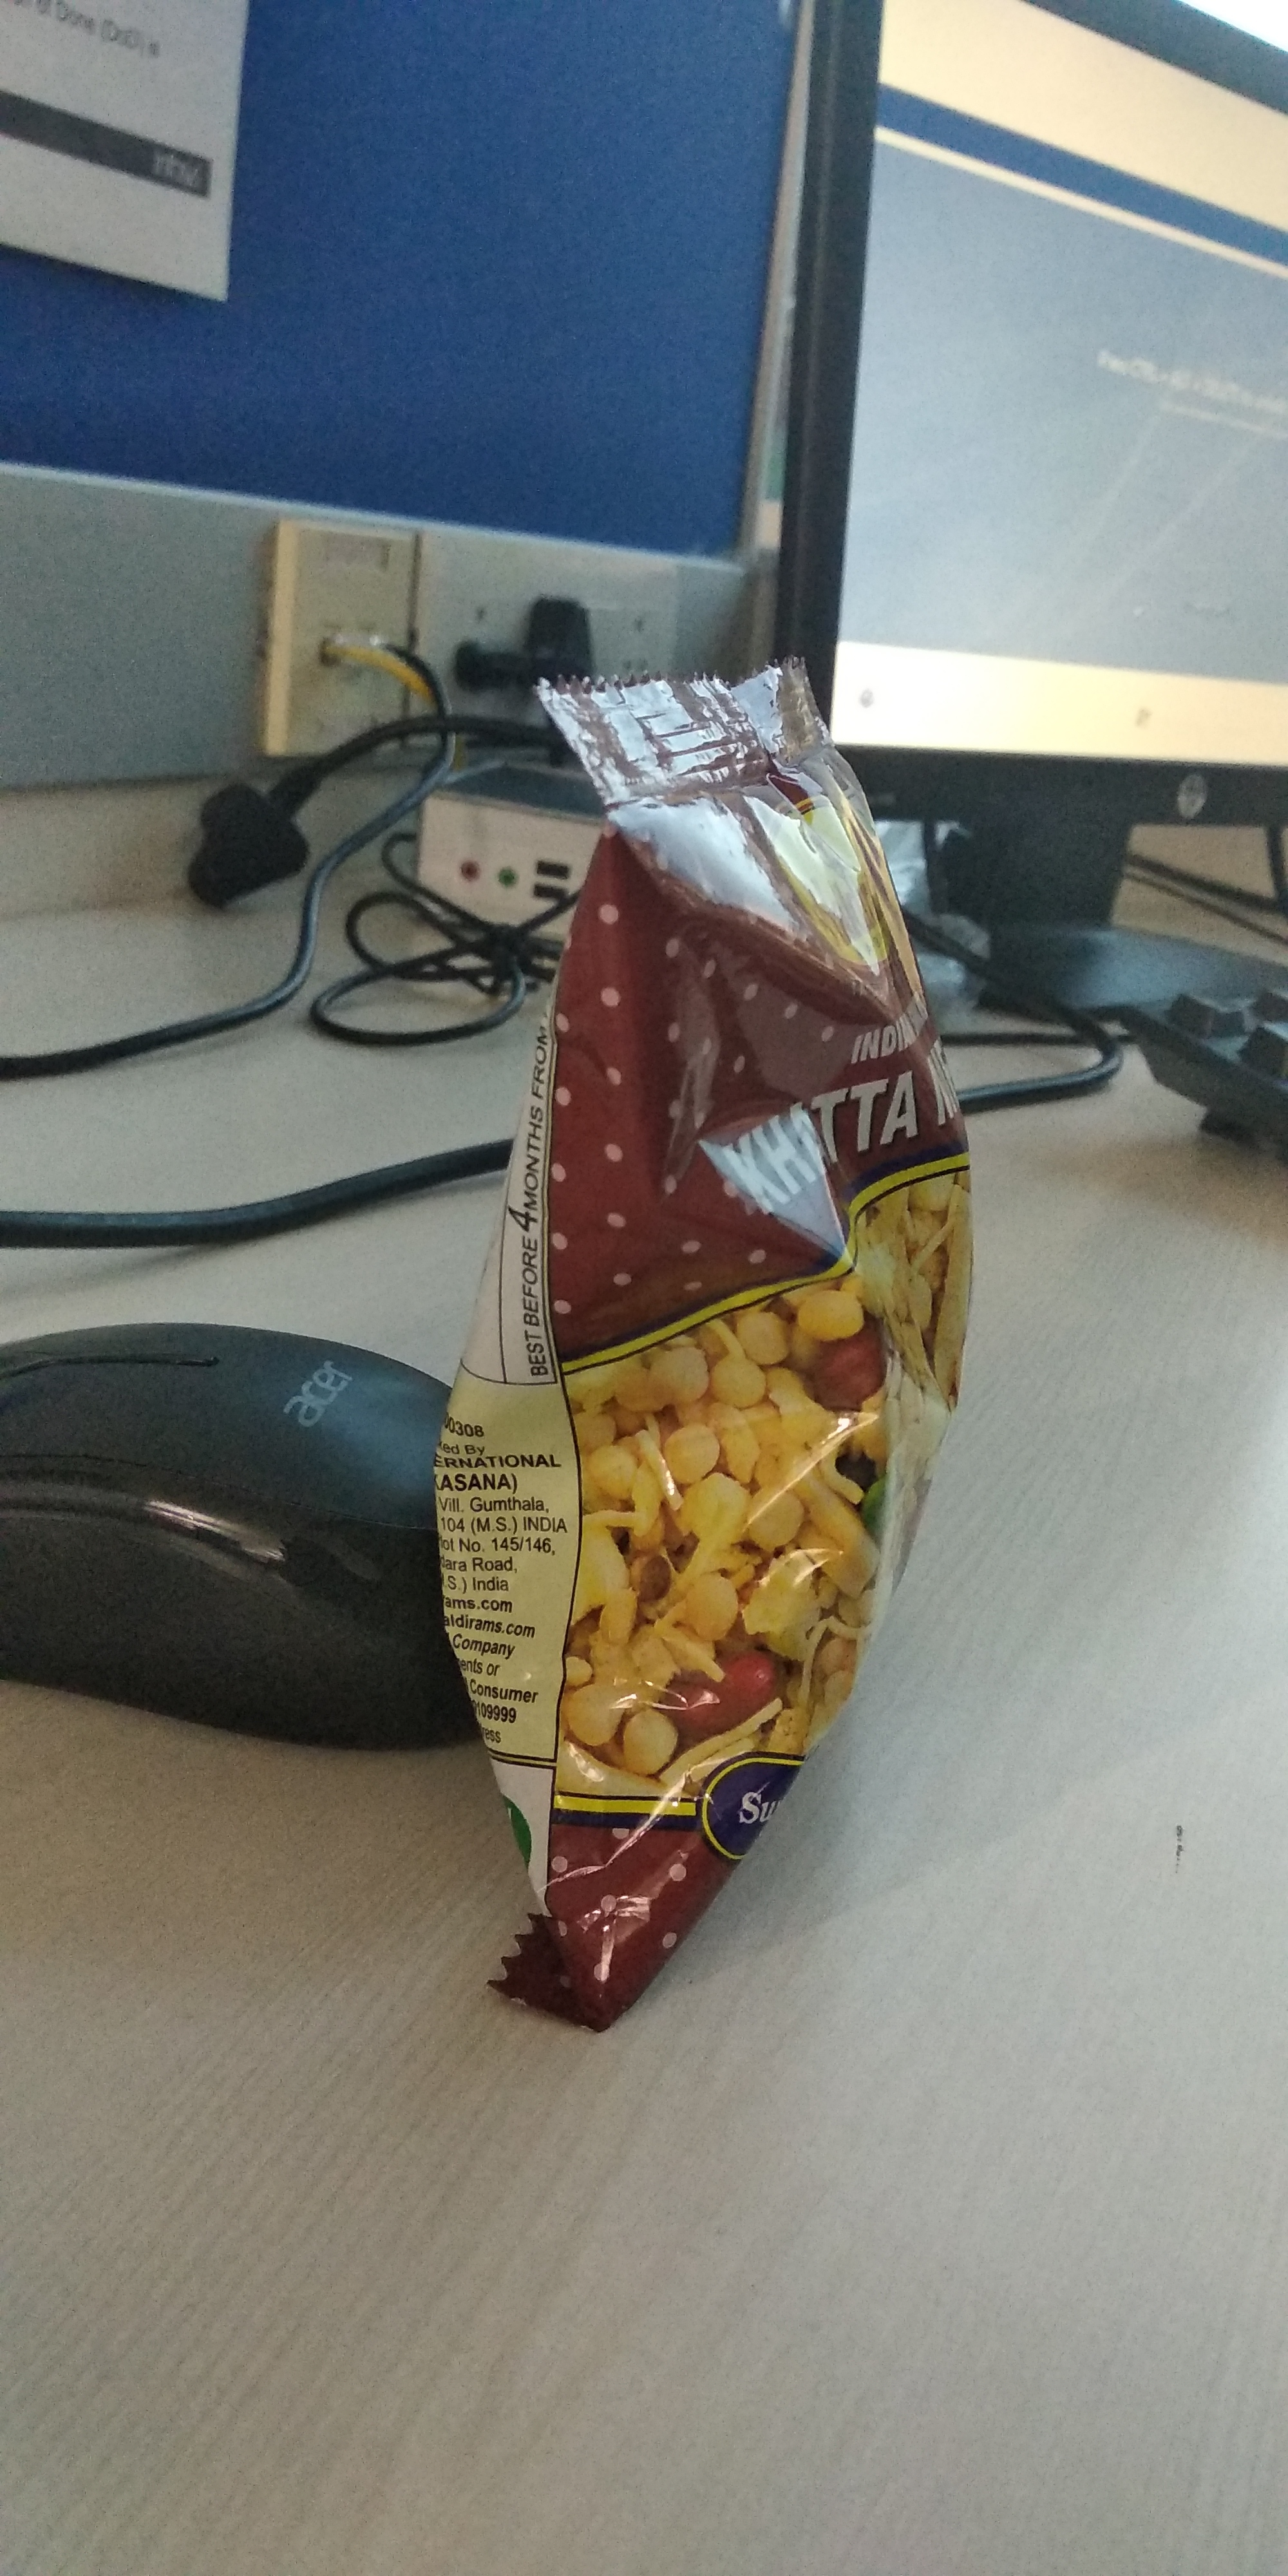khataMeetha: (416, 651, 1007, 2034)
